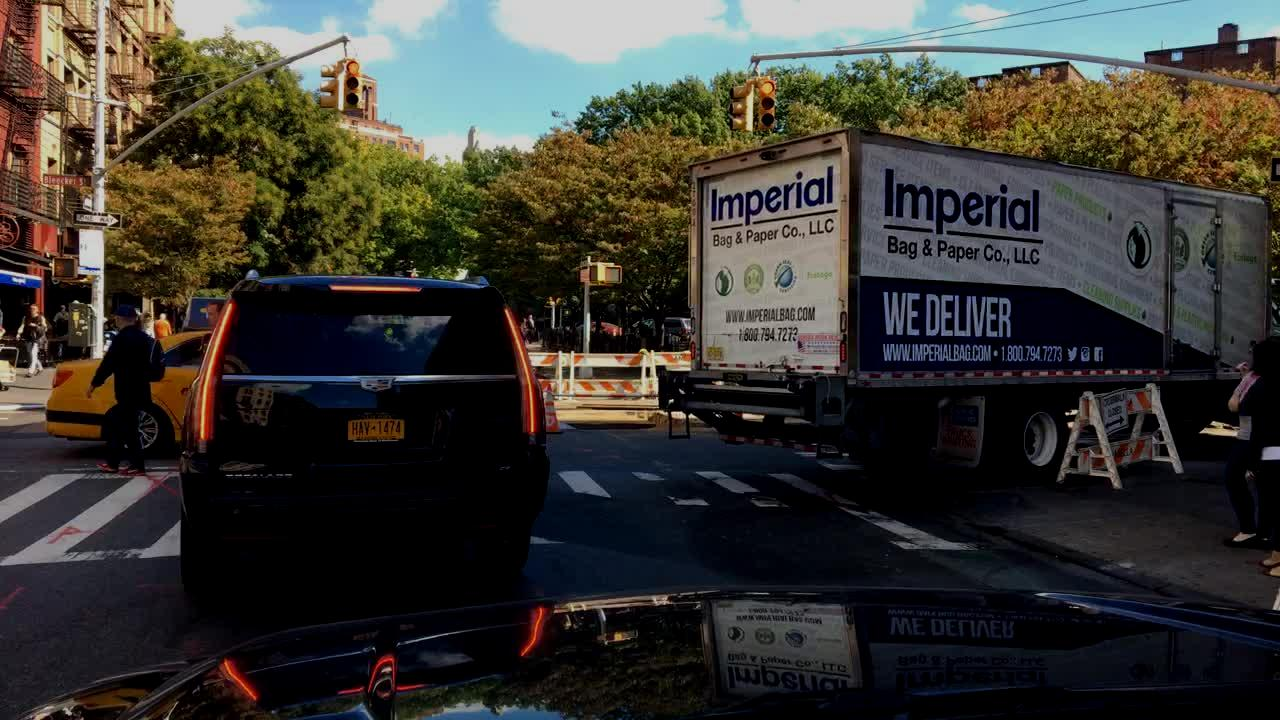cadillac: (351, 372, 403, 397)
